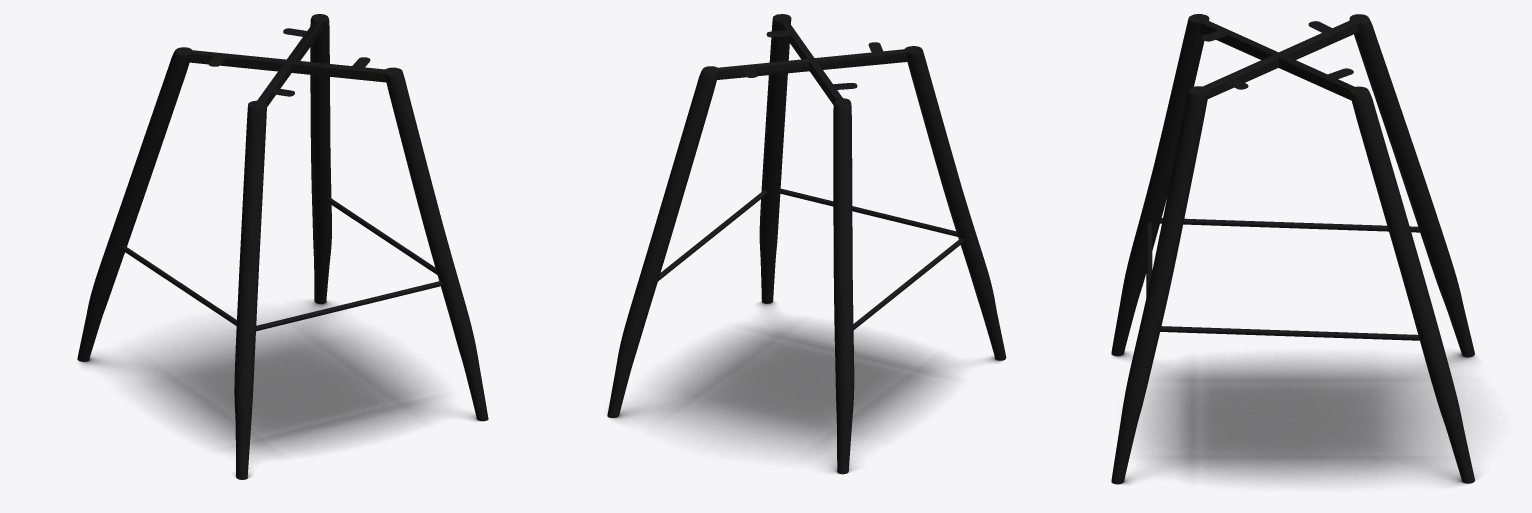
File: Barowe 65cm.glb
3 renders of one model, left to right at view 1: azimuth 30°, elevation 25°; view 2: azimuth 150°, elevation 25°; view 3: azimuth 270°, elevation 25°, orthographic. The views are drawn at different scales.
Parts seen in each view (by area): view 1: legs, Shadow001.001; view 2: legs, Shadow001.001; view 3: legs, Shadow001.001.
Part boxes in pixels (x1,y1,x2,y2): legs: [77, 14, 488, 479]; Shadow001.001: [79, 300, 488, 479]; legs: [607, 14, 1006, 474]; Shadow001.001: [607, 301, 1001, 474]; legs: [1111, 14, 1474, 483]; Shadow001.001: [1111, 352, 1474, 484].
Size of the model in its own units: 0.6039 by 0.6049 by 0.6506.
Materials: 2 (1 with a texture image).
